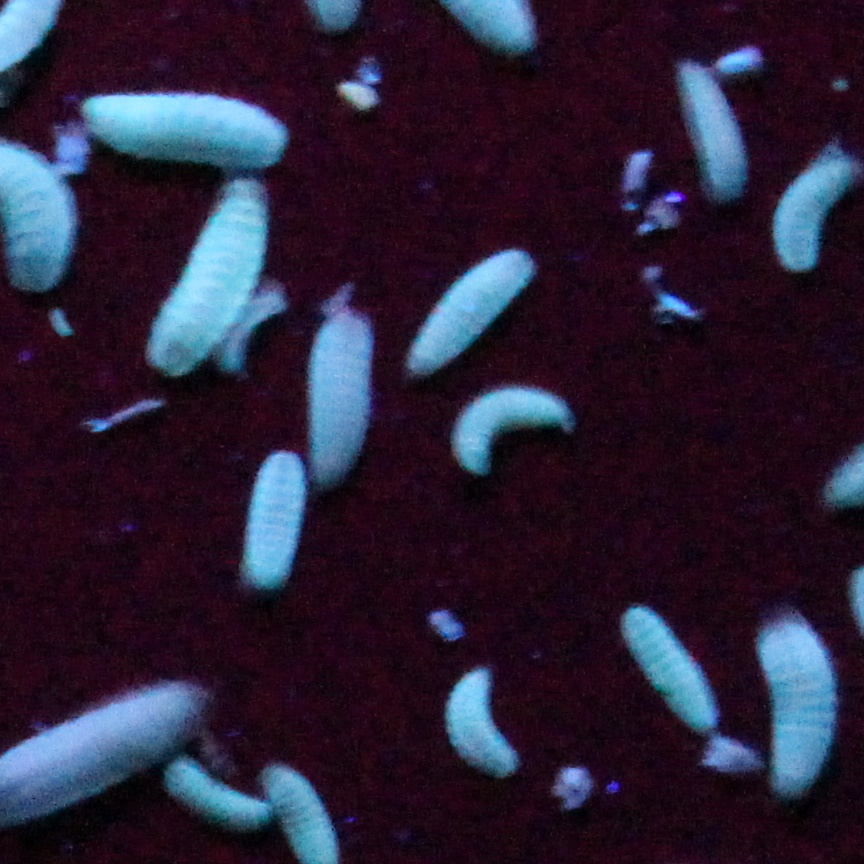larve: (146, 180, 265, 367), (404, 240, 529, 379), (85, 90, 291, 171), (432, 393, 595, 477), (618, 600, 713, 736), (755, 618, 832, 785), (675, 46, 753, 200), (305, 295, 368, 471), (166, 744, 269, 832), (786, 148, 848, 280), (250, 451, 300, 592), (442, 663, 509, 767)
